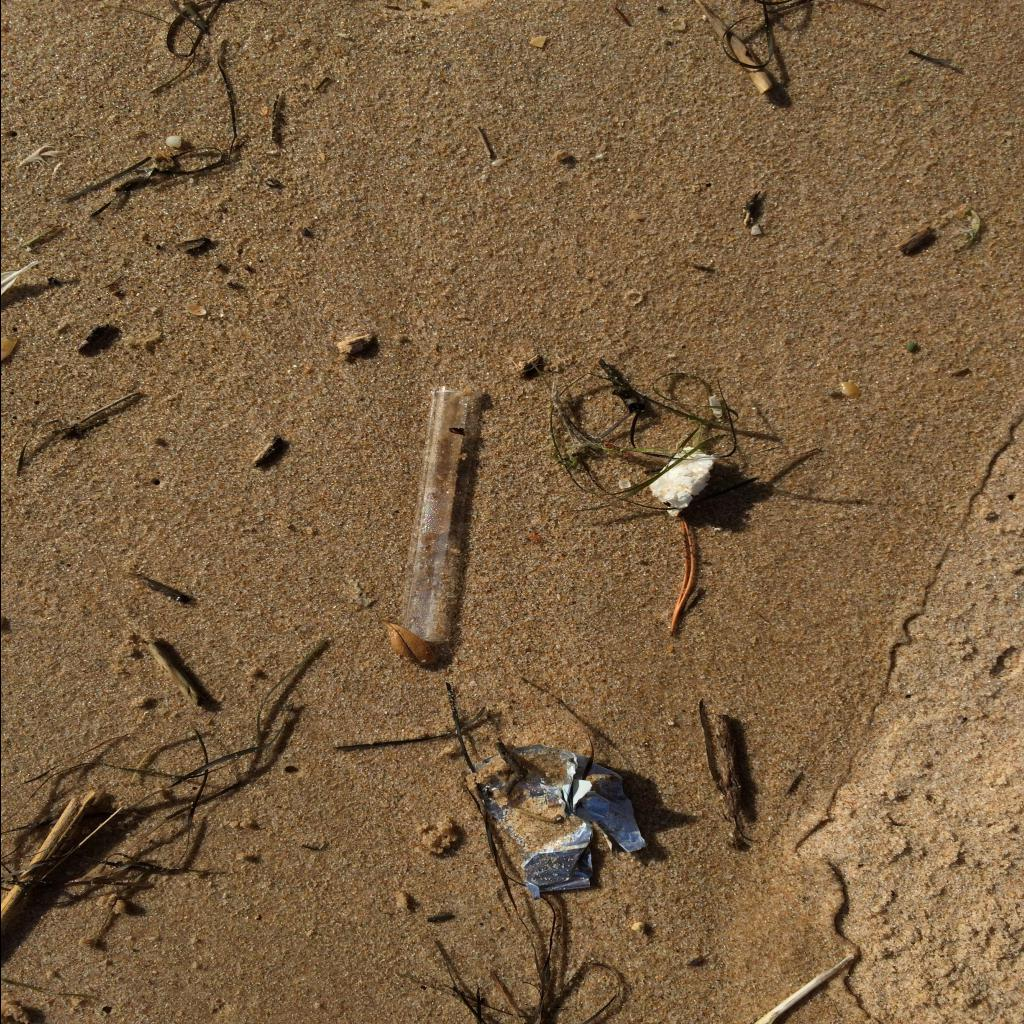Aluminium foil: (480, 744, 648, 900)
Plastic film: (400, 386, 480, 640)
Styrofoam piece: (648, 447, 718, 517)
